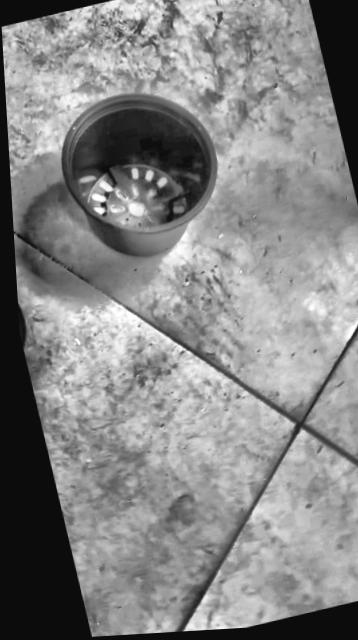pot: (47, 76, 237, 275), (16, 267, 35, 373)
